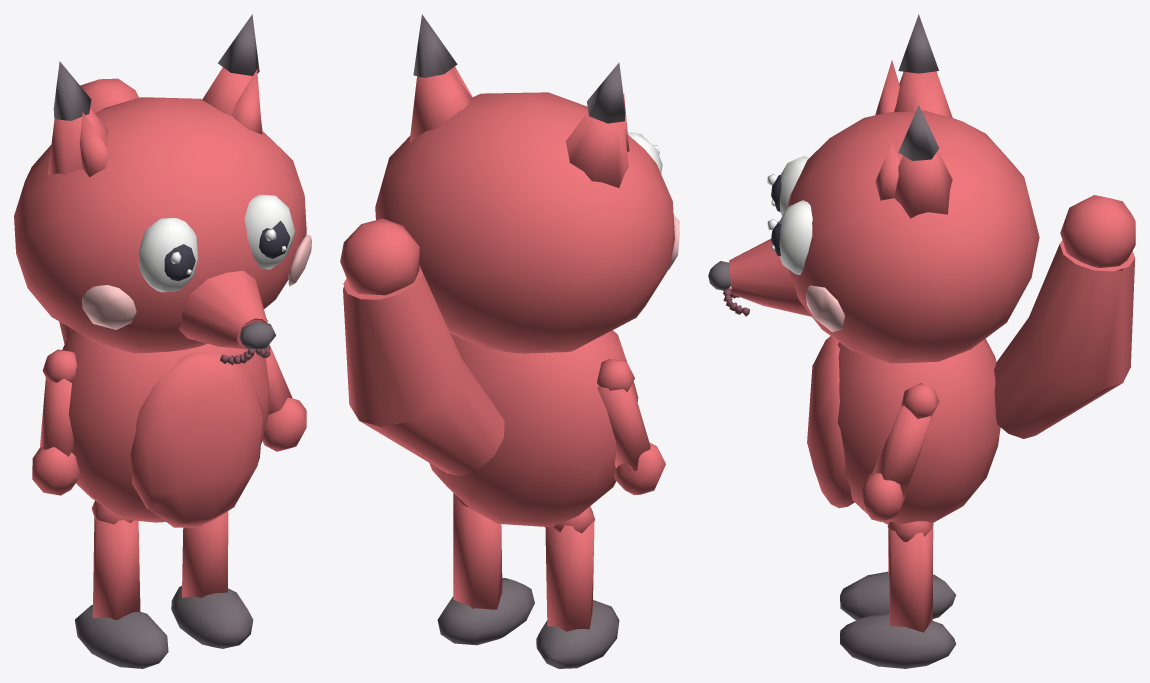
File: Fox.fbx
3 views of the same model, side by side, from view 1: azimuth 30°, elevation 25°; view 2: azimuth 150°, elevation 25°; view 3: azimuth 270°, elevation 25° (orthographic). The views are drawn at different scales.
Parts seen in each view (by area): view 1: EX_Fox; view 2: EX_Fox; view 3: EX_Fox.
Part boxes in pixels (x1,y1,x2,y2): EX_Fox: (14, 14, 311, 668); EX_Fox: (340, 14, 679, 668); EX_Fox: (708, 14, 1135, 668).
Bounding box in the file's own units: 106 × 233 × 155.
